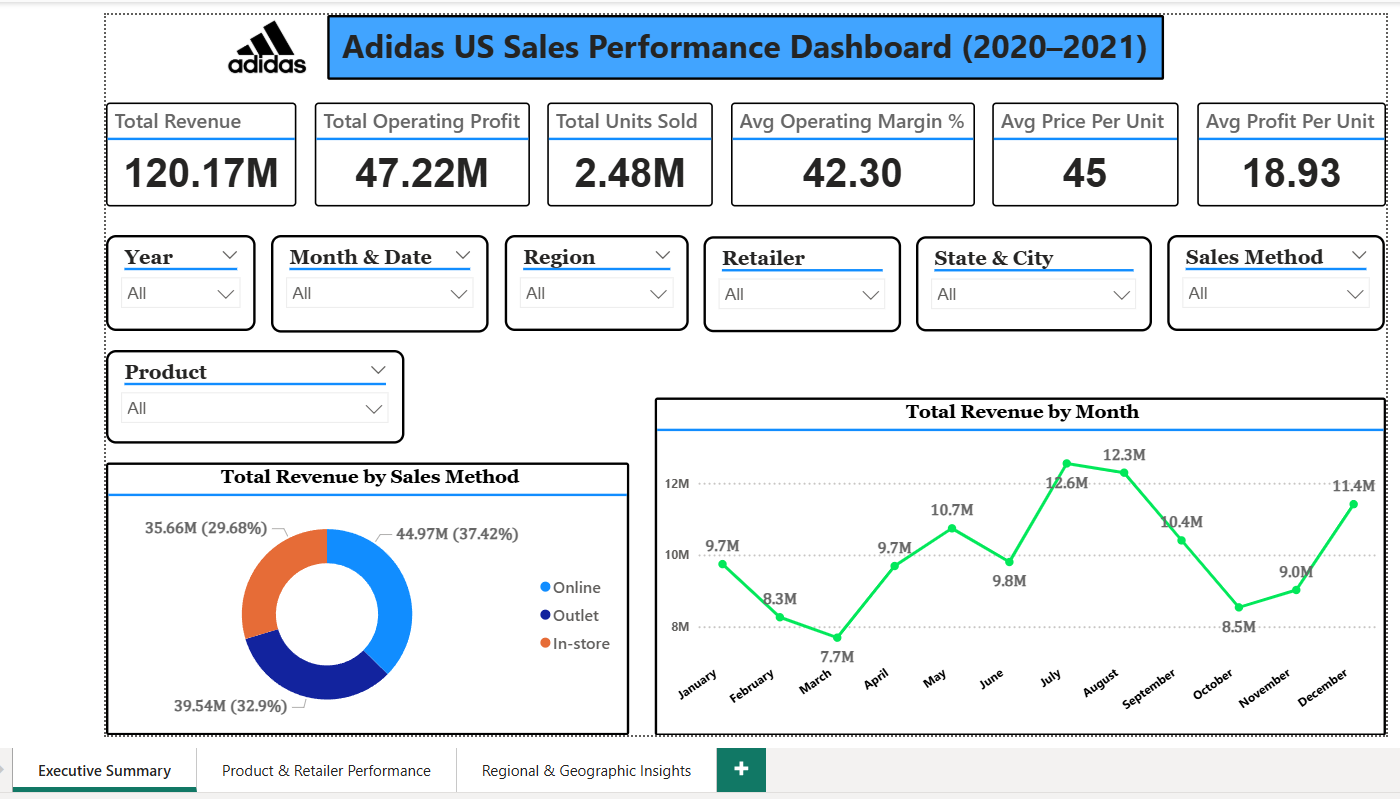

The page's visual inventory and layout, read from the dashboard file:
{"tool":"powerbi","page":{"name":"Executive Summary","canvas":[1280,720],"ordinal":0},"visuals":[{"type":"textbox","box":[221.6,0,836.8,64.9],"z":0},{"type":"image","box":[114,0,95.2,63.5],"z":1000},{"type":"card","title":"Total Revenue","fields":{"Values":["adidas_data adidas.Total Revenue"]},"box":[0,88,190.4,103.9],"z":2000},{"type":"card","title":"Total Operating Profit","fields":{"Values":["adidas_data adidas.Total Operating Profit"]},"box":[208.3,88,215,103.9],"z":3000},{"type":"card","title":"Total Units Sold","fields":{"Values":["adidas_data adidas.Total Units Sold"]},"box":[441.2,88,165.9,103.9],"z":4000},{"type":"slicer","fields":{"Values":["adidas_data adidas.invoice_date.Variation.Date Hierarchy.Year"]},"box":[0,219.5,149.8,96.4],"z":5000},{"type":"card","title":"Avg Operating Margin %","fields":{"Values":["adidas_data adidas.Avg Operating Margin %"]},"box":[625,88,243.8,103.9],"z":6000},{"type":"card","title":"Avg Price Per Unit","fields":{"Values":["adidas_data adidas.Avg Price Per Unit"]},"box":[886.7,88,186.1,103.9],"z":7000},{"type":"card","title":"Avg Profit Per Unit","fields":{"Values":["adidas_data adidas.Avg Profit Per Unit"]},"box":[1090.7,88,189,103.9],"z":8000},{"type":"slicer","fields":{"Values":["adidas_data adidas.invoice_date.Variation.Date Hierarchy.Month","adidas_data adidas.invoice_date.Variation.Date Hierarchy.Day"]},"box":[165.2,219.5,218,97.9],"z":9000},{"type":"slicer","fields":{"Values":["adidas_data adidas.state","adidas_data adidas.city"]},"box":[810.5,220.9,235.8,94.9],"z":10000},{"type":"slicer","fields":{"Values":["adidas_data adidas.region"]},"box":[398.6,219.5,183.9,96.4],"z":11000},{"type":"lineChart","fields":{"Category":["adidas_data adidas.invoice_date.Variation.Date Hierarchy.Month"],"Y":["adidas_data adidas.Total Revenue"]},"box":[548.7,382.6,731.1,338.1],"z":12000},{"type":"donutChart","title":"Total Revenue by Sales Method","fields":{"Y":["adidas_data adidas.Total Revenue"],"Category":["adidas_data adidas.sales_method"]},"box":[0,447.8,523.5,272.8],"z":13000},{"type":"slicer","fields":{"Values":["adidas_data adidas.product"]},"box":[0,335.1,298.1,93.4],"z":14000},{"type":"slicer","fields":{"Values":["adidas_data adidas.retailer"]},"box":[597.9,220.9,197.2,96.4],"z":15000},{"type":"slicer","fields":{"Values":["adidas_data adidas.sales_method"]},"box":[1061.7,219.5,218,96.4],"z":16000}]}

Visuals, with their boxes on the page's 1280x720 design canvas (x1, y1, x2, y2). These are canvas units, not pixel positions in the 1400x799 screenshot, which may show the page scaled, cropped or inside an application window:
textbox: 222:0:1058:65
image: 114:0:209:64
"Total Revenue" card: 0:88:190:192
"Total Operating Profit" card: 208:88:423:192
"Total Units Sold" card: 441:88:607:192
slicer - adidas_data adidas.invoice_date.Variation.Date Hierarchy.Year: 0:220:150:316
"Avg Operating Margin %" card: 625:88:869:192
"Avg Price Per Unit" card: 887:88:1073:192
"Avg Profit Per Unit" card: 1091:88:1280:192
slicer - adidas_data adidas.invoice_date.Variation.Date Hierarchy.Month x adidas_data adidas.invoice_date.Variation.Date Hierarchy.Day: 165:220:383:317
slicer - adidas_data adidas.state x adidas_data adidas.city: 810:221:1046:316
slicer - adidas_data adidas.region: 399:220:582:316
lineChart - adidas_data adidas.invoice_date.Variation.Date Hierarchy.Month x adidas_data adidas.Total Revenue: 549:383:1280:721
"Total Revenue by Sales Method" donutChart: 0:448:524:721
slicer - adidas_data adidas.product: 0:335:298:428
slicer - adidas_data adidas.retailer: 598:221:795:317
slicer - adidas_data adidas.sales_method: 1062:220:1280:316
